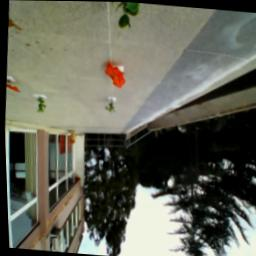herb: (115, 2, 141, 31), (35, 96, 46, 115), (104, 98, 116, 115)
wild: (103, 59, 128, 90), (5, 80, 21, 95)
